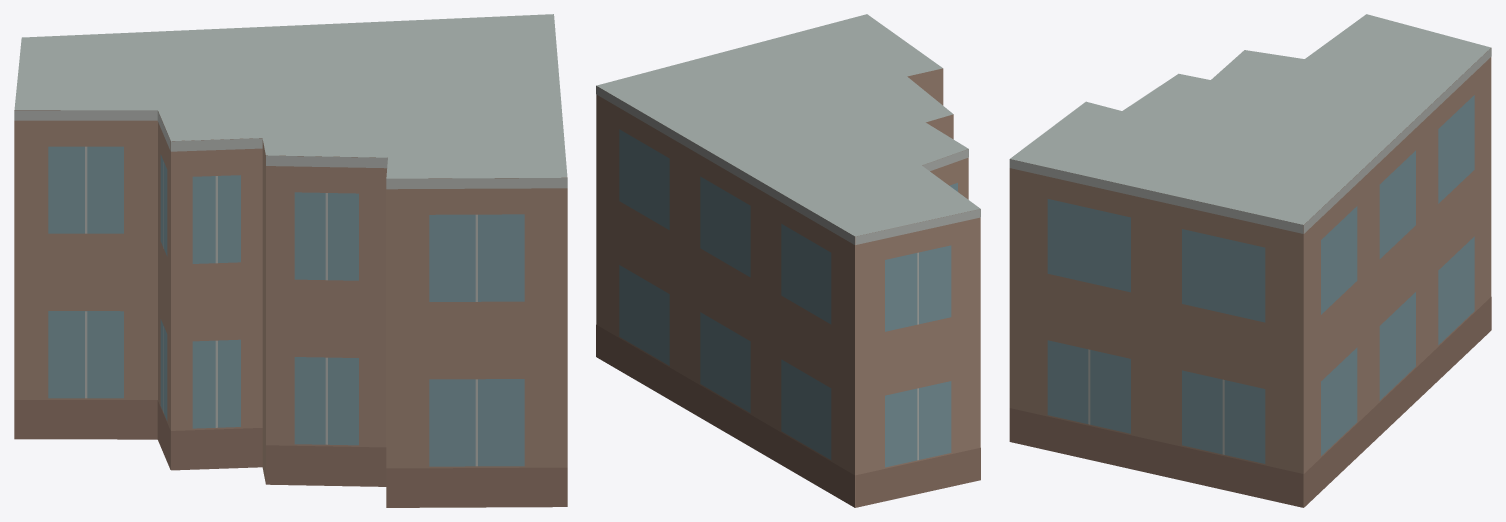
The model's file is survey-upis-32638758.glb.
3 renders of one model, left to right at view 1: azimuth 30°, elevation 25°; view 2: azimuth 150°, elevation 25°; view 3: azimuth 270°, elevation 25°, orthographic. The views are drawn at different scales.
Parts seen in each view (by area): view 1: survey-upis-32638758.tmp; view 2: survey-upis-32638758.tmp; view 3: survey-upis-32638758.tmp.
Boxes of the visible parts, box(x1,y1,x2,y2) form: survey-upis-32638758.tmp: box(14, 14, 567, 507); survey-upis-32638758.tmp: box(596, 14, 980, 507); survey-upis-32638758.tmp: box(1009, 14, 1491, 507).
Bounding box in the file's own units: 12.16 × 7.6 × 11.74.
